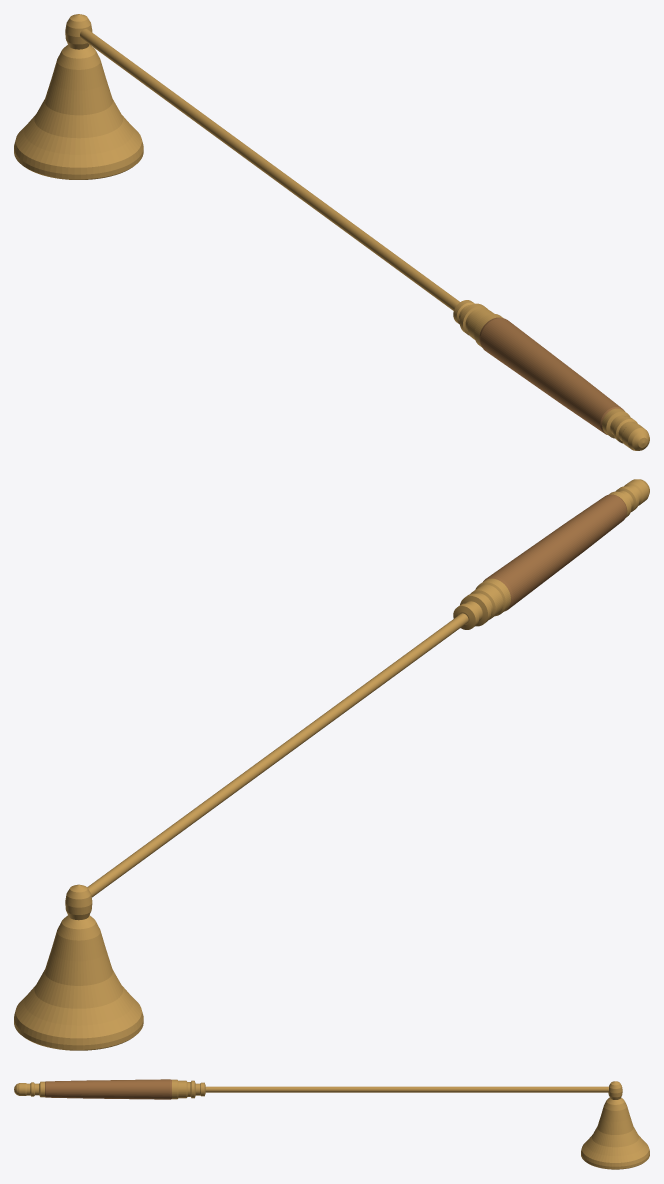
3 views of the same model, one above another, from view 1: azimuth 30°, elevation 25°; view 2: azimuth 150°, elevation 25°; view 3: azimuth 270°, elevation 25° (orthographic). The views are drawn at different scales.
Visible parts, largest first — view 1: Brass_stem_bell_welded, Turned_wood_grip, Brass_tail_finial; view 2: Brass_stem_bell_welded, Turned_wood_grip; view 3: Brass_stem_bell_welded, Turned_wood_grip, Brass_tail_finial.
Part boxes in pixels (bbox=[...]): Brass_stem_bell_welded: bbox=[14, 14, 503, 347]; Turned_wood_grip: bbox=[479, 317, 624, 434]; Brass_tail_finial: bbox=[602, 408, 649, 450]; Brass_stem_bell_welded: bbox=[14, 578, 510, 1050]; Turned_wood_grip: bbox=[483, 494, 627, 611]; Brass_stem_bell_welded: bbox=[172, 1079, 649, 1169]; Turned_wood_grip: bbox=[45, 1079, 171, 1099]; Brass_tail_finial: bbox=[14, 1081, 44, 1097].
Size of the model in its own units: 0.038 by 0.0456 by 0.35.
